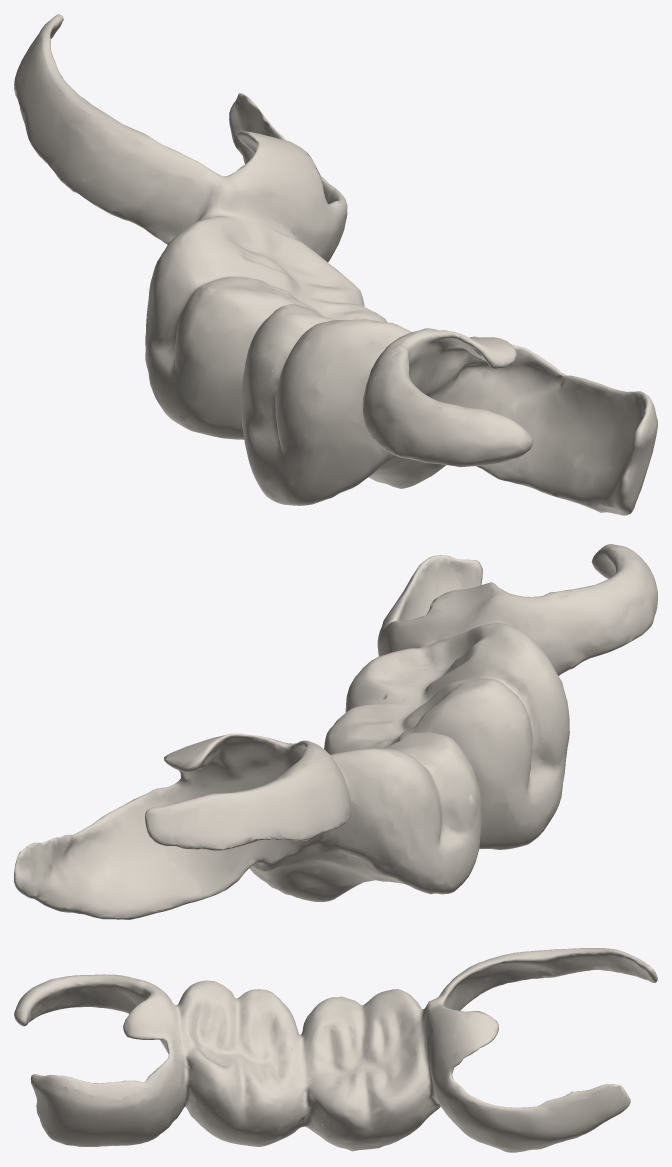
Rendered from maryland pfm3glb.glb.
3 renders of one model, top to bottom at view 1: azimuth 30°, elevation 25°; view 2: azimuth 150°, elevation 25°; view 3: azimuth 270°, elevation 25°, orthographic. The views are drawn at different scales.
Parts seen in each view (by area): view 1: maryland pfm LowerJawScan; view 2: maryland pfm LowerJawScan; view 3: maryland pfm LowerJawScan.
Part boxes in pixels (<box>): maryland pfm LowerJawScan: <box>14,14,657,515</box>; maryland pfm LowerJawScan: <box>14,544,657,919</box>; maryland pfm LowerJawScan: <box>14,948,657,1152</box>.
Size of the model in its own units: 1.11 by 0.9818 by 3.26.
1 material, 1 textured.
